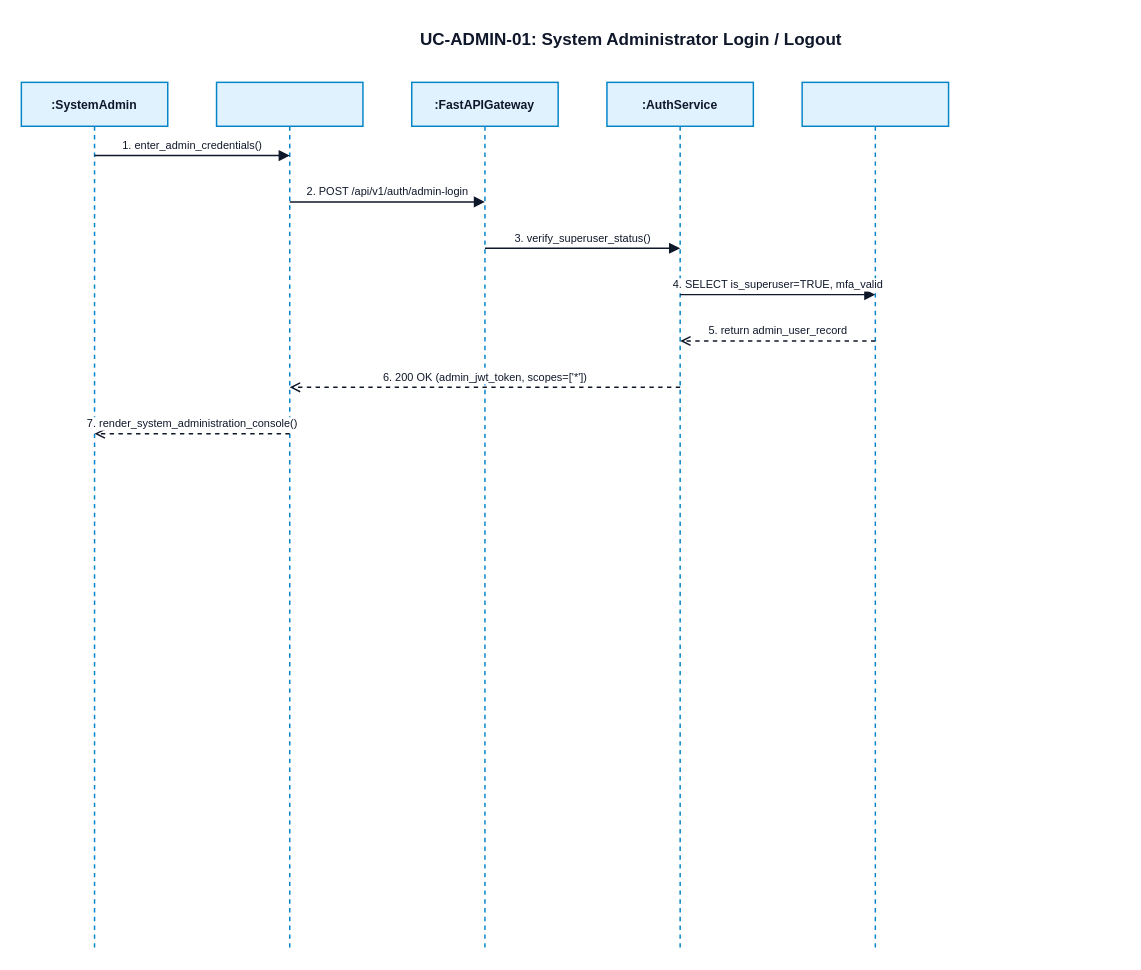
Image size: 1141x970. Some labels were removed from this diagram. The box of each missing label's shape, as (x1, y1, x2, y2) in pixels:
:AdminPortal (React): (215, 81, 363, 949)
:PostgreSQLDB: (801, 81, 949, 949)
